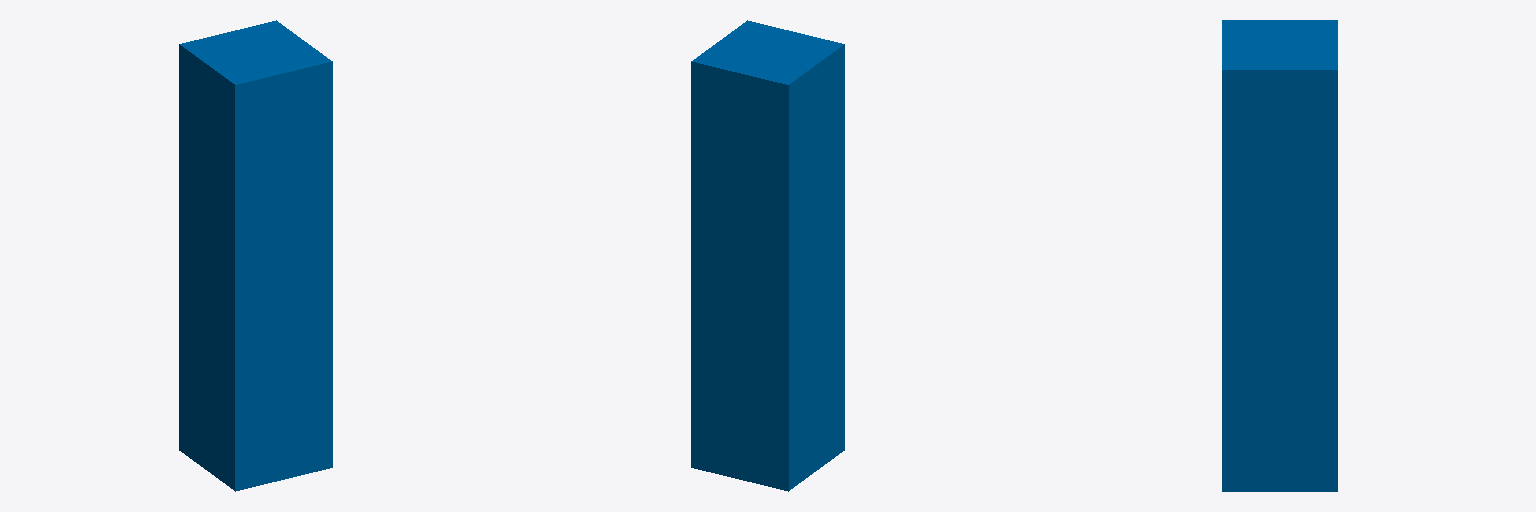
robot.urdf — mimic_gripper:
<?xml version="1.0"?>
<!-- A parallel gripper whose second finger is a mimic joint, for #104:
     - grip_mirror follows grip, mirrored (the usual parallel gripper);
     - grip_tip follows grip_mirror, itself a mimic: a chain of two;
     - knuckle, revolute, follows lift with an offset;
     - finger_b carries a mesh, which has to move with its finger;
     - tool0 on the arm, where the Tool bone goes, mimics or not. -->
<robot name="mimic_gripper">
  <link name="base"/>
  <link name="arm"/>
  <link name="tool0"/>
  <link name="finger_a"/>
  <link name="finger_b">
    <visual>
      <origin xyz="0 0 0.02" rpy="0 0 0"/>
      <geometry><box size="0.01 0.01 0.04"/></geometry>
    </visual>
  </link>
  <link name="tip_b"/>
  <link name="finger_c"/>

  <joint name="lift" type="revolute">
    <parent link="base"/><child link="arm"/>
    <origin xyz="0 0 0.1" rpy="0 0 0"/><axis xyz="0 0 1"/>
    <limit lower="-1.5" upper="1.5" effort="10" velocity="1"/>
  </joint>
  <joint name="arm_tool0" type="fixed">
    <parent link="arm"/><child link="tool0"/>
    <origin xyz="0 0 0.3" rpy="0 0 0"/>
  </joint>
  <joint name="grip" type="prismatic">
    <parent link="arm"/><child link="finger_a"/>
    <origin xyz="0.05 0 0.2" rpy="0 0 0"/><axis xyz="1 0 0"/>
    <limit lower="0" upper="0.04" effort="5" velocity="0.5"/>
  </joint>
  <joint name="grip_mirror" type="prismatic">
    <parent link="arm"/><child link="finger_b"/>
    <origin xyz="-0.05 0 0.2" rpy="0 0 0"/><axis xyz="1 0 0"/>
    <limit lower="-0.04" upper="0" effort="5" velocity="0.5"/>
    <mimic joint="grip" multiplier="-1.0" offset="0.0"/>
  </joint>
  <joint name="grip_tip" type="prismatic">
    <parent link="finger_b"/><child link="tip_b"/>
    <origin xyz="0 0 0.05" rpy="0 0 0"/><axis xyz="1 0 0"/>
    <limit lower="-0.2" upper="0.2" effort="5" velocity="1"/>
    <mimic joint="grip_mirror" multiplier="2.0" offset="0.01"/>
  </joint>
  <joint name="knuckle" type="revolute">
    <parent link="arm"/><child link="finger_c"/>
    <origin xyz="0 0.05 0.2" rpy="0 0 0"/><axis xyz="0 1 0"/>
    <limit lower="-1" upper="1" effort="5" velocity="1"/>
    <mimic joint="lift" multiplier="0.5" offset="0.1"/>
  </joint>
</robot>

--- Render facts (derived) ---
The picture shows the robot from 3 angles, left to right: view 1: azimuth 30°, elevation 25°; view 2: azimuth 150°, elevation 25°; view 3: azimuth 270°, elevation 25°; orthographic projection.
Robot: mimic_gripper — 7 links, 6 joints (2 revolute, 3 prismatic, 1 fixed); root link base; default pose: all joints at 0.
Visible links, largest first — view 1: finger_b; view 2: finger_b; view 3: finger_b.
Boxes of the visible links, x1,y1,x2,y2 form: finger_b: [179, 20, 332, 491]; finger_b: [691, 20, 844, 491]; finger_b: [1222, 20, 1337, 491].
Size in the robot's own frame: 0.01 by 0.01 by 0.04 metres.
Geometry: primitives only (box / cylinder / sphere), no mesh files.
